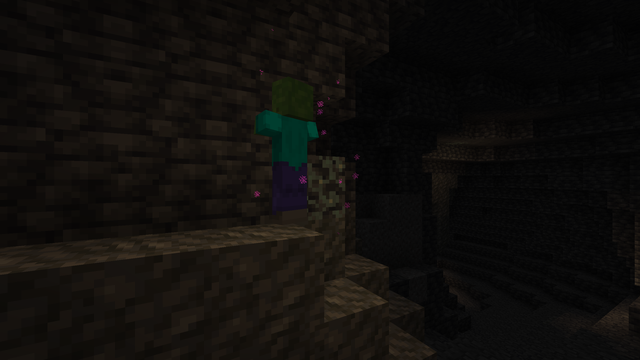zombies: (266, 78, 316, 226)
